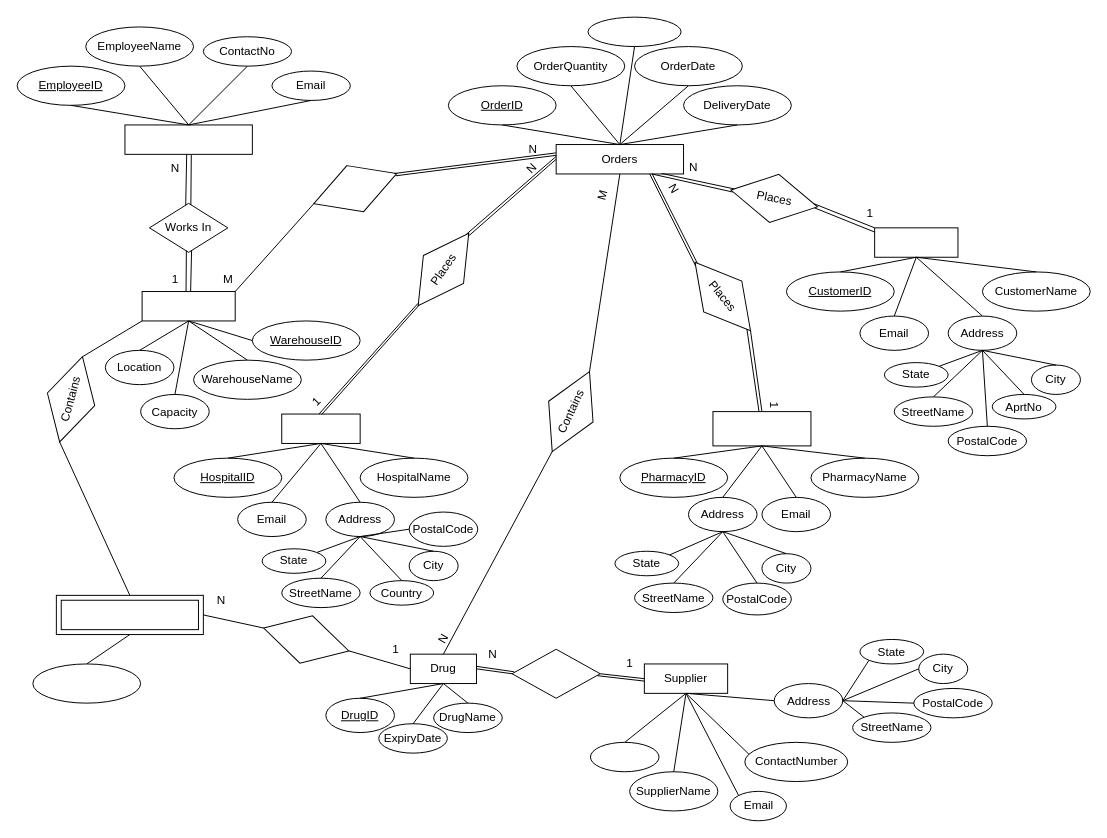
Image size: 1107x838. Some labels were removed from this diagram. Here are the shapes that lost their labels. From the top down, the centre of each, then its label:
At [634,31]: "Status".
At [188,139]: "Employee".
At [354,188]: "Controls".
At [916,242]: "Customer".
At [188,306]: "Warehouse".
At [320,428]: "Hospital".
At [761,428]: "Pharmacy".
At [129,614]: "Stock".
At [305,639]: "Has".
At [86,683]: "DrugQuantity".
At [555,673]: "Supplies".
At [624,756]: "SupplierID".
